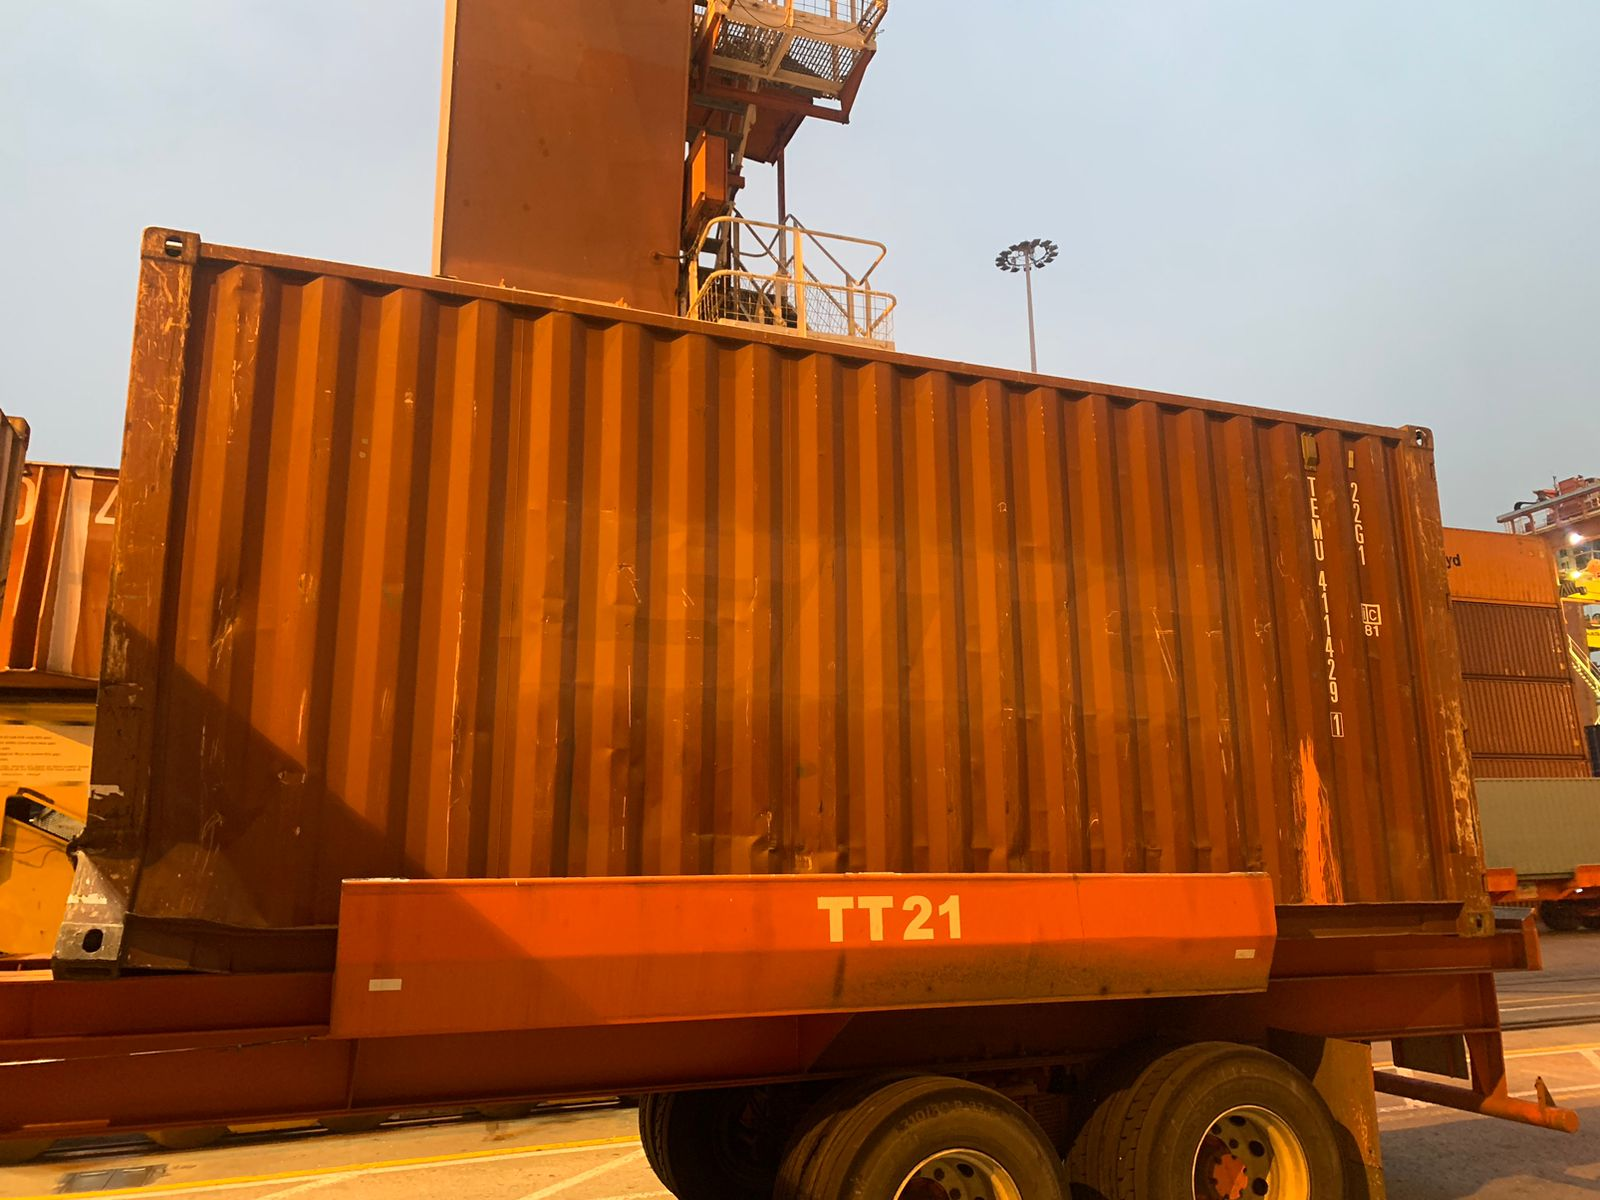moderate: (627, 760, 1208, 879), (76, 742, 283, 911)
